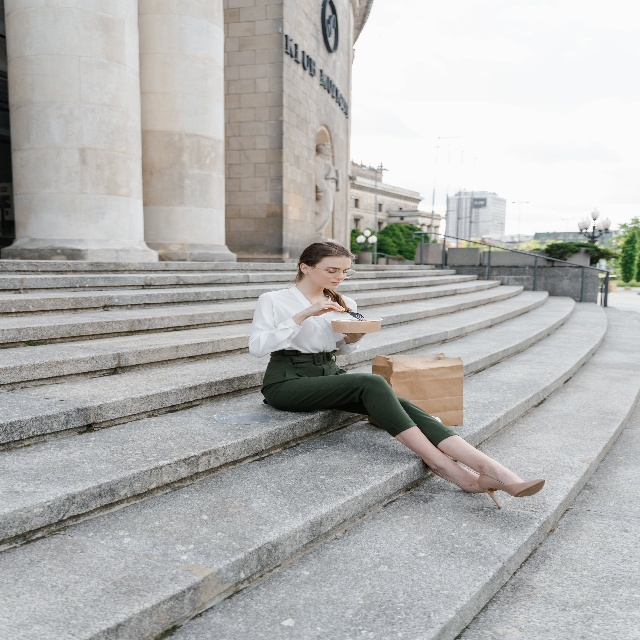Gafas: (324, 265, 358, 283)
Sin_guantes: (304, 297, 343, 318)
